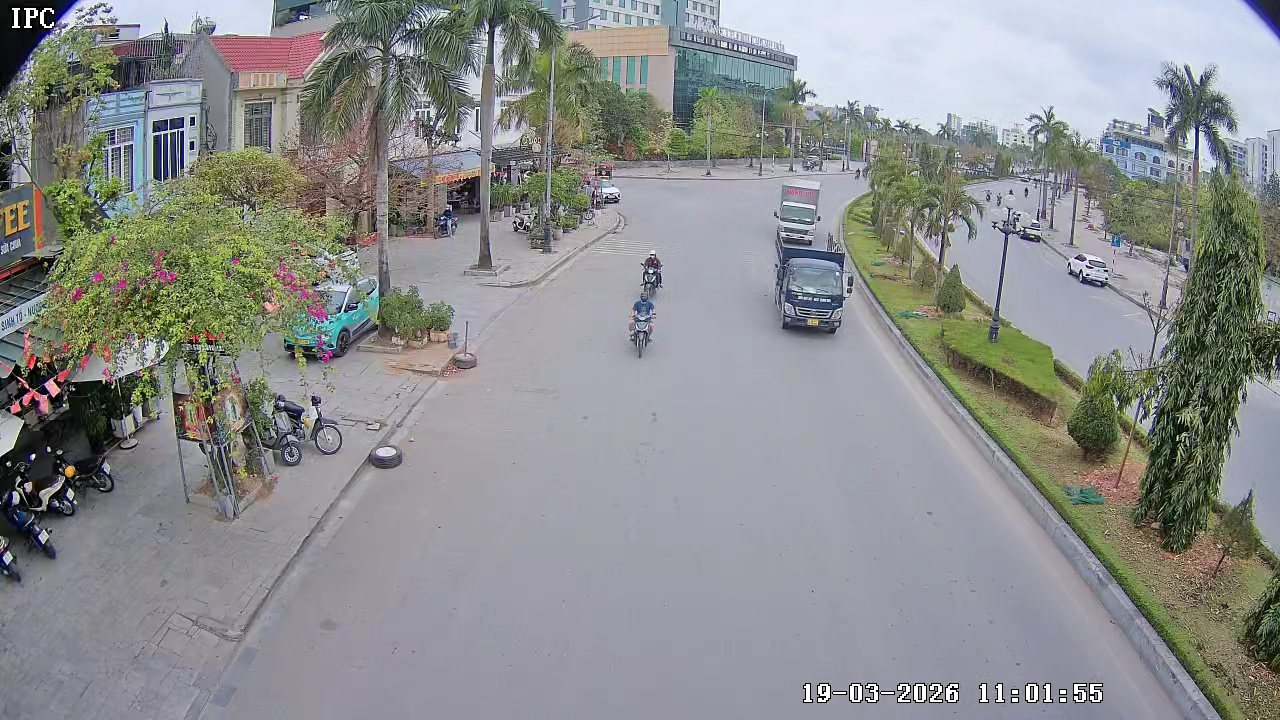bike: (269, 388, 344, 458)
car: (1066, 250, 1111, 289)
motorbike: (627, 285, 659, 358), (0, 521, 24, 585), (639, 249, 665, 296)
truck: (771, 195, 855, 333), (769, 171, 840, 249)
